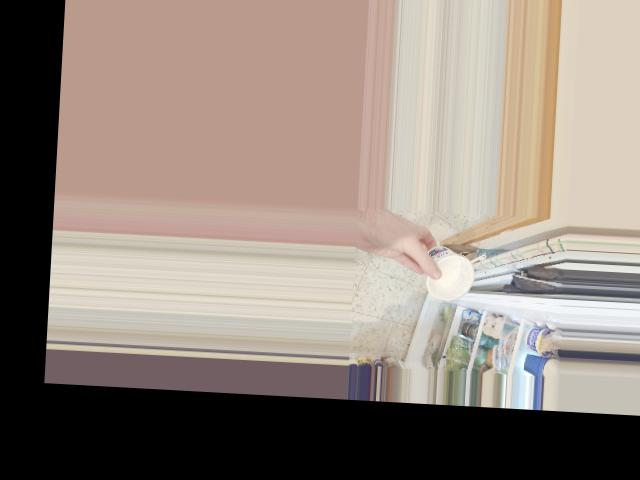cotage: (421, 241, 478, 302)
